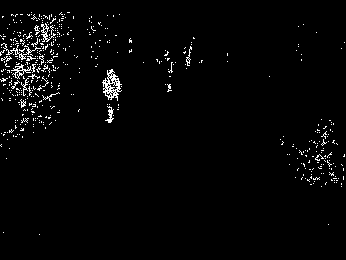person: (100, 69, 122, 124), (154, 49, 177, 94)
